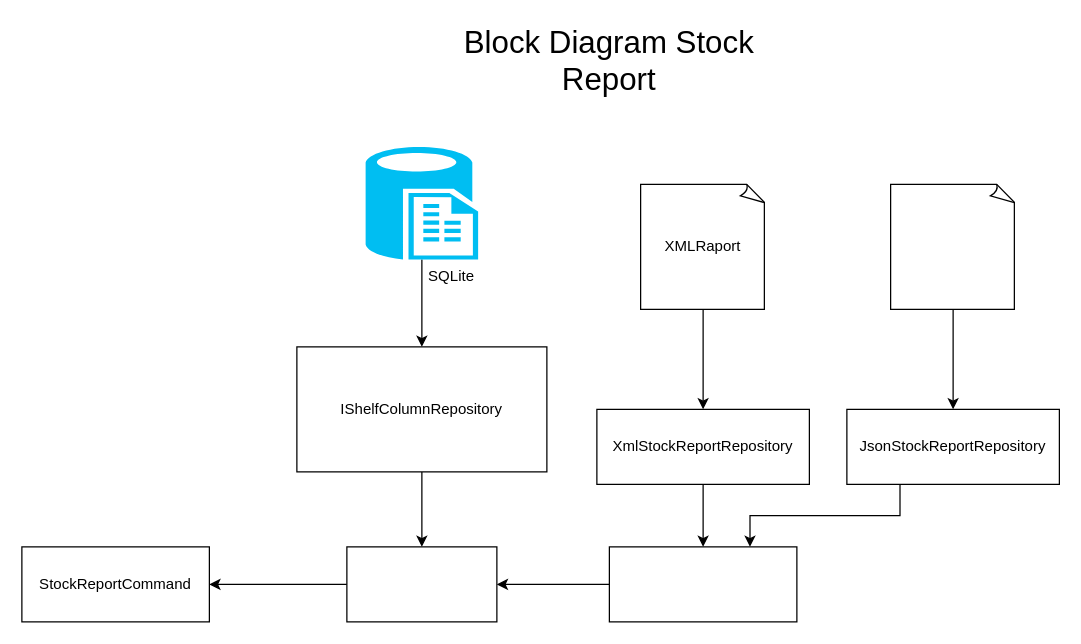
Some shapes in this 1081 by 644 pixel diagram are drawn without their labels. Here are the shapes that lost their labels. From the top down, the centre of each, then its label:
At point (952, 246): "JSONRaport".
At point (421, 584): "StockReportUseCase".
At point (702, 584): "IStockReportRepository".
